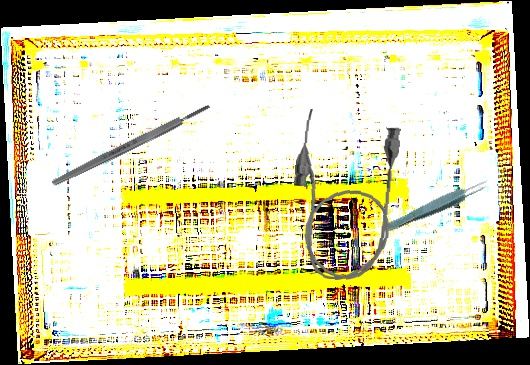Cannula: (285, 107, 403, 285)
Scalpel Handle: (49, 101, 213, 189)
Tissue Forceps: (379, 176, 493, 237)
